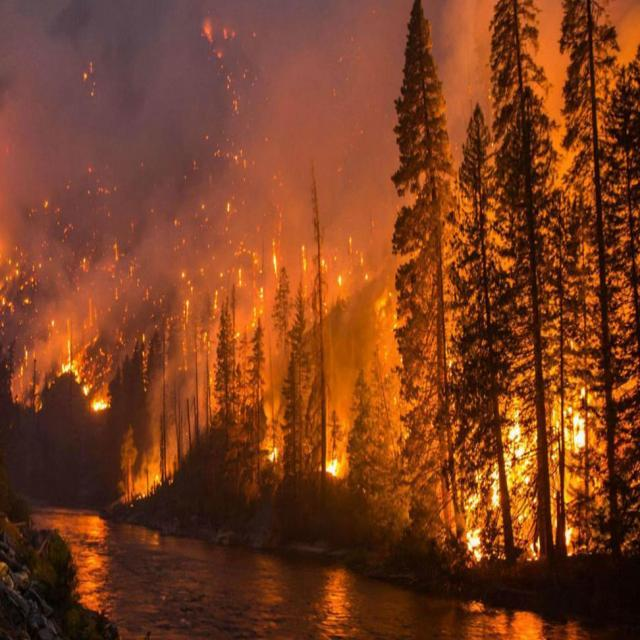Fire: (461, 377, 607, 572), (8, 266, 124, 418), (320, 456, 340, 478), (264, 446, 278, 464)
